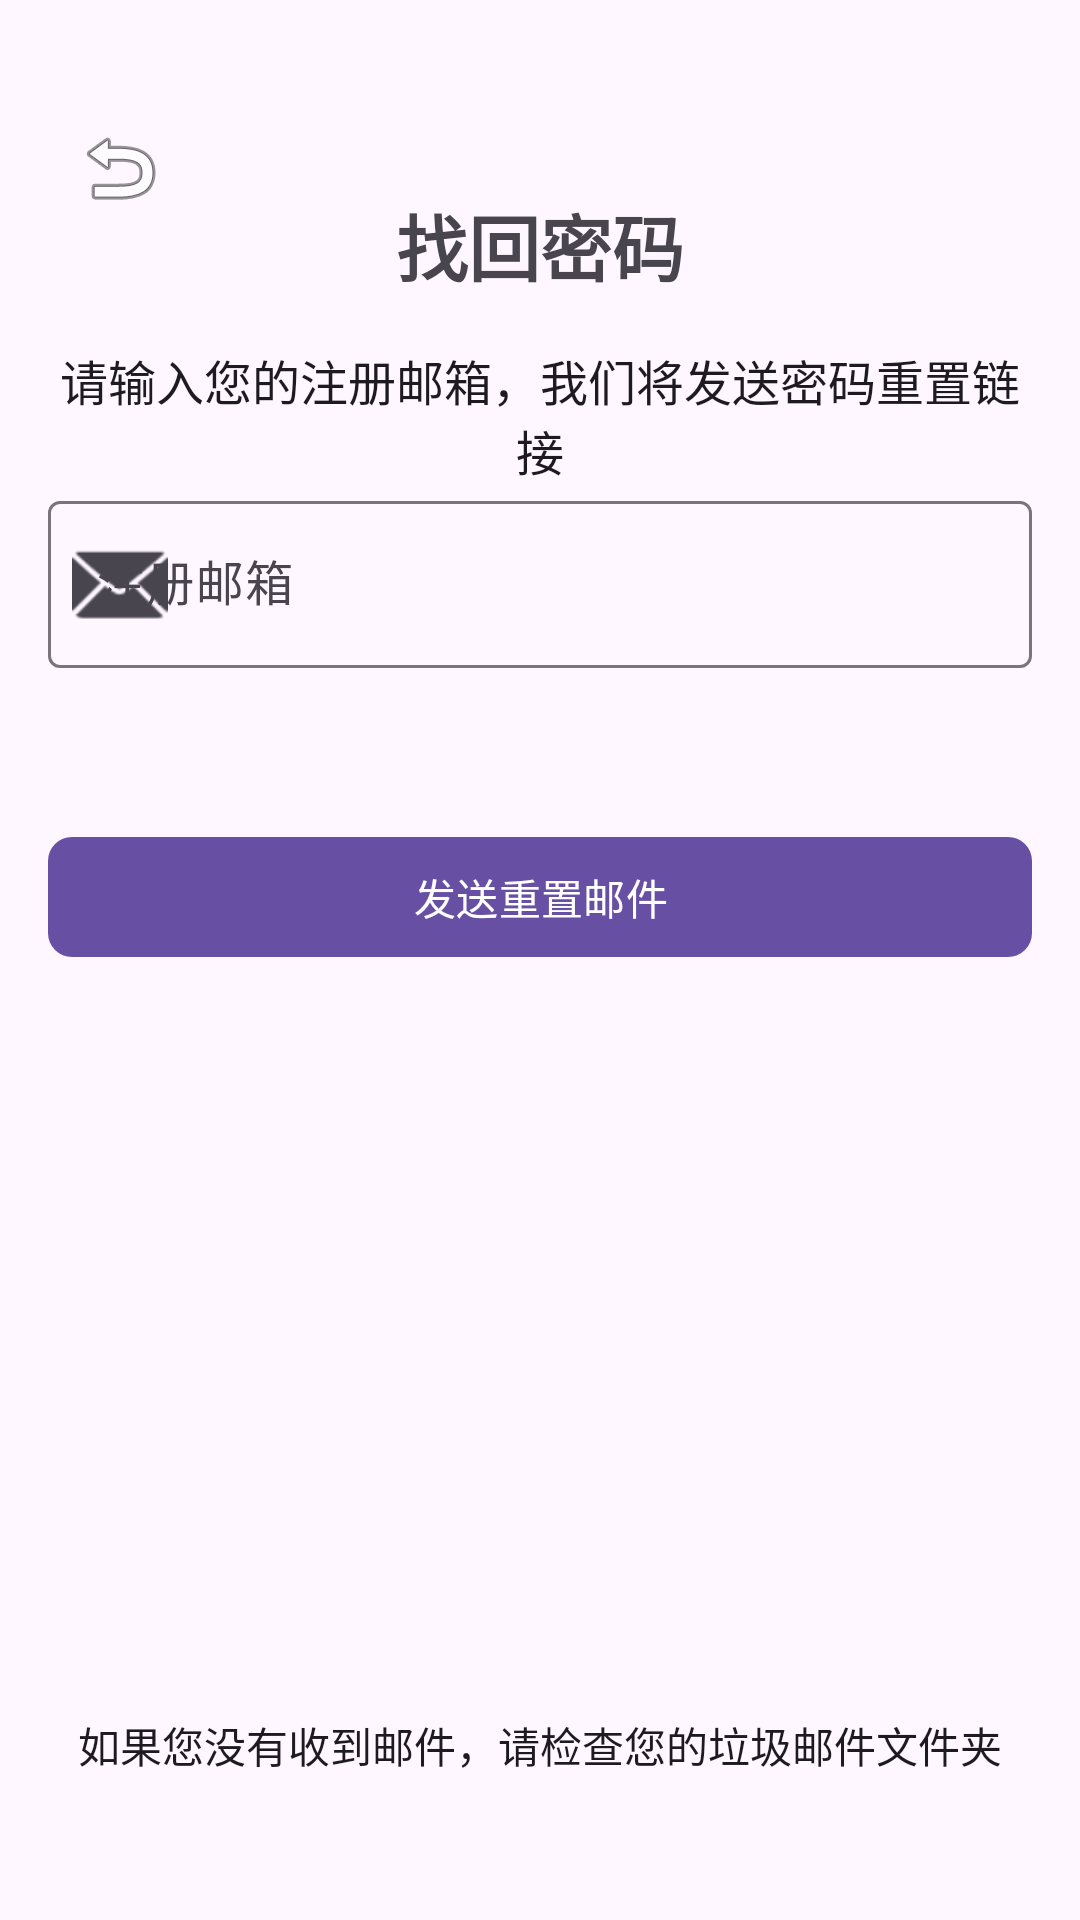

Named icons in this screenshot (1080×1920) and their centers, (x=x, y=y):
返回: (x=121, y=168)
